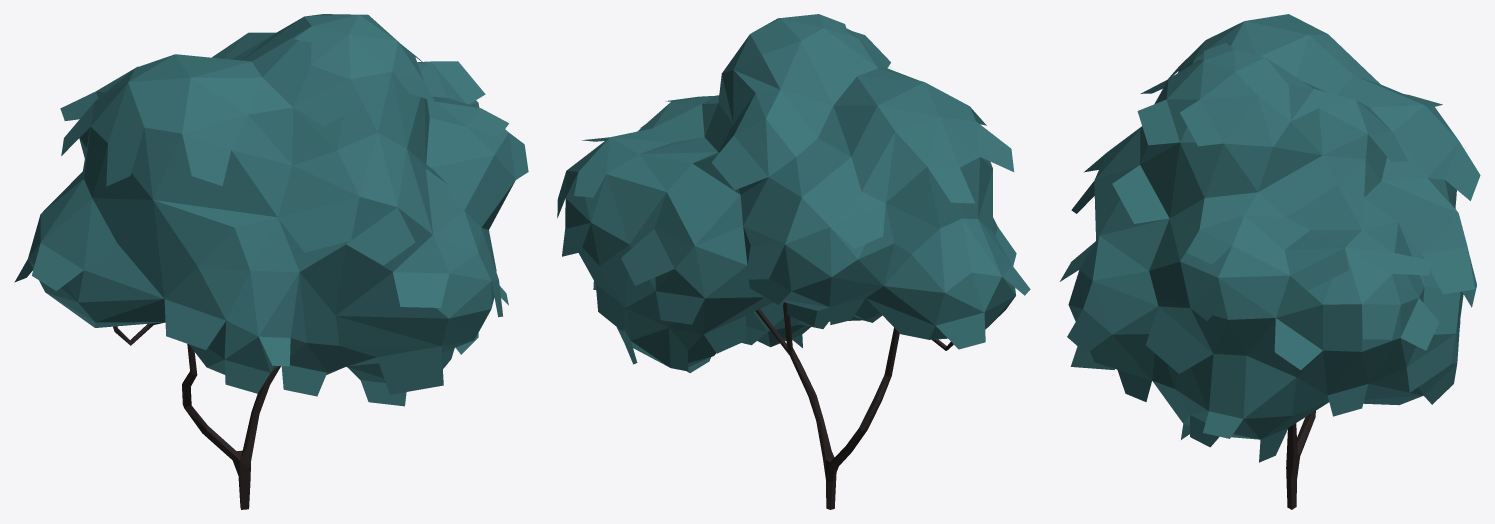
Rendered from Tree_Forest_Turquoise_02.glb.
The picture shows the model from 3 angles, left to right: view 1: azimuth 30°, elevation 25°; view 2: azimuth 150°, elevation 25°; view 3: azimuth 270°, elevation 25°; orthographic projection. The views are drawn at different scales.
Parts seen in each view (by area): view 1: Tree_Forest_Turquoise_02; view 2: Tree_Forest_Turquoise_02; view 3: Tree_Forest_Turquoise_02.
Boxes of the visible parts, box(x1,y1,x2,y2) form: Tree_Forest_Turquoise_02: box(14, 14, 528, 509); Tree_Forest_Turquoise_02: box(557, 14, 1030, 509); Tree_Forest_Turquoise_02: box(1060, 14, 1480, 509).
Size of what is drawn, in the model's own units: 8.63 by 8.58 by 6.88.
Materials: 1 (1 with a texture image).
